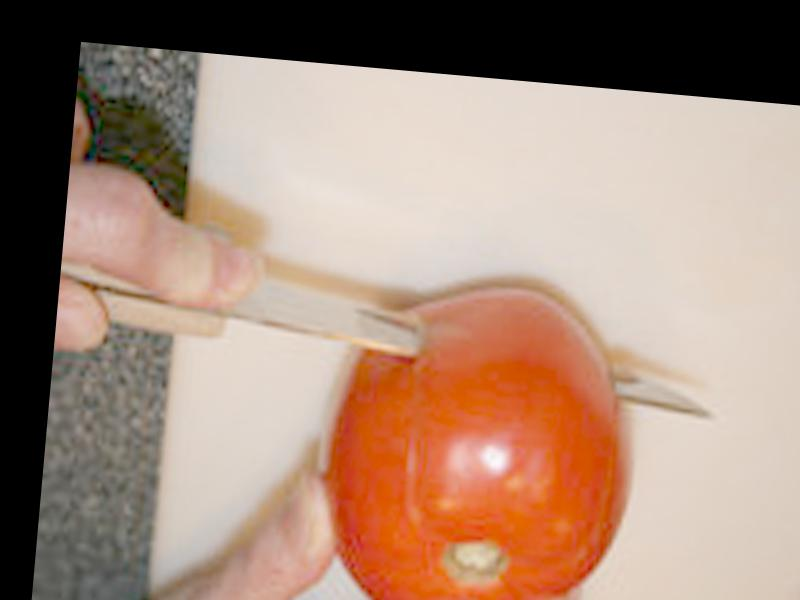Tomato: (313, 273, 649, 600)
